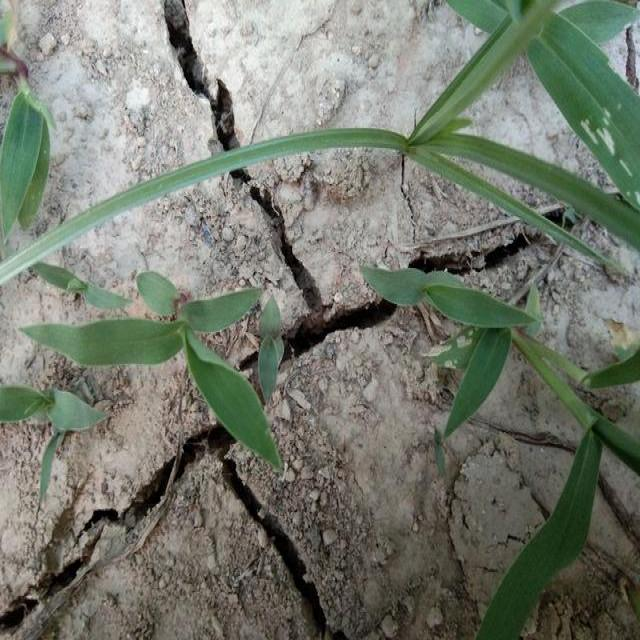weed: (396, 13, 640, 264), (14, 114, 404, 264), (34, 323, 264, 476), (497, 433, 599, 640), (462, 335, 640, 453), (361, 280, 538, 331), (10, 83, 51, 234), (31, 253, 130, 310)
